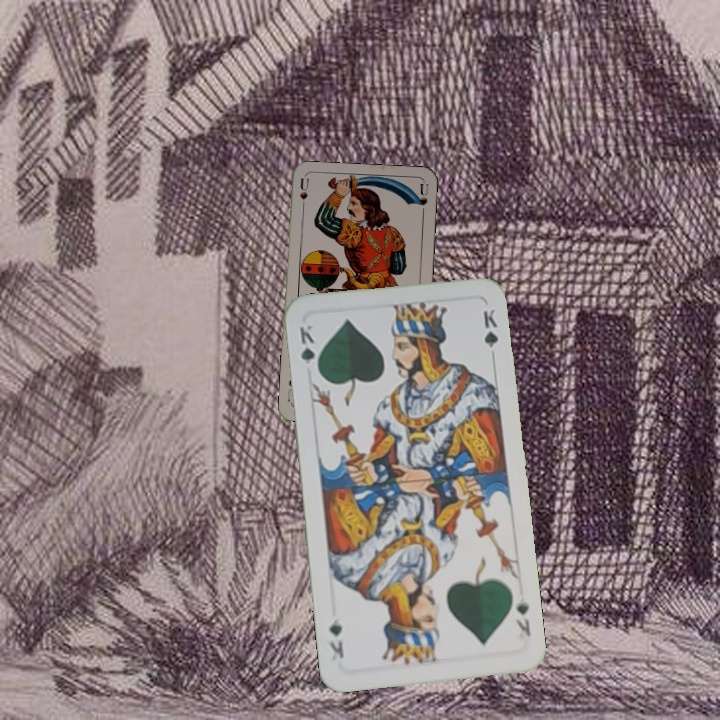GK: (295, 321, 321, 377), (511, 597, 533, 638)
SU: (296, 176, 311, 216)
